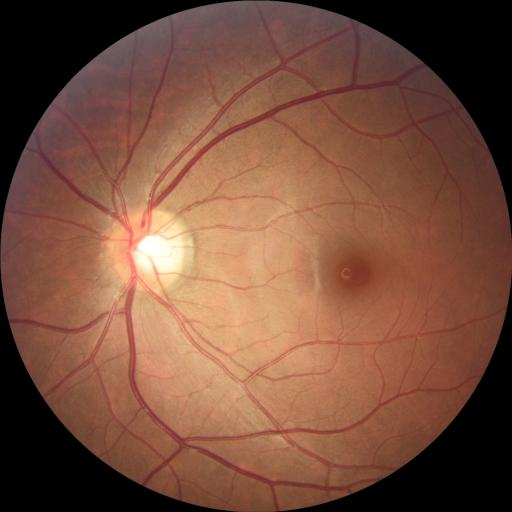Optic Cup: (131, 235, 171, 271)
Optic Disc: (99, 209, 195, 295)
